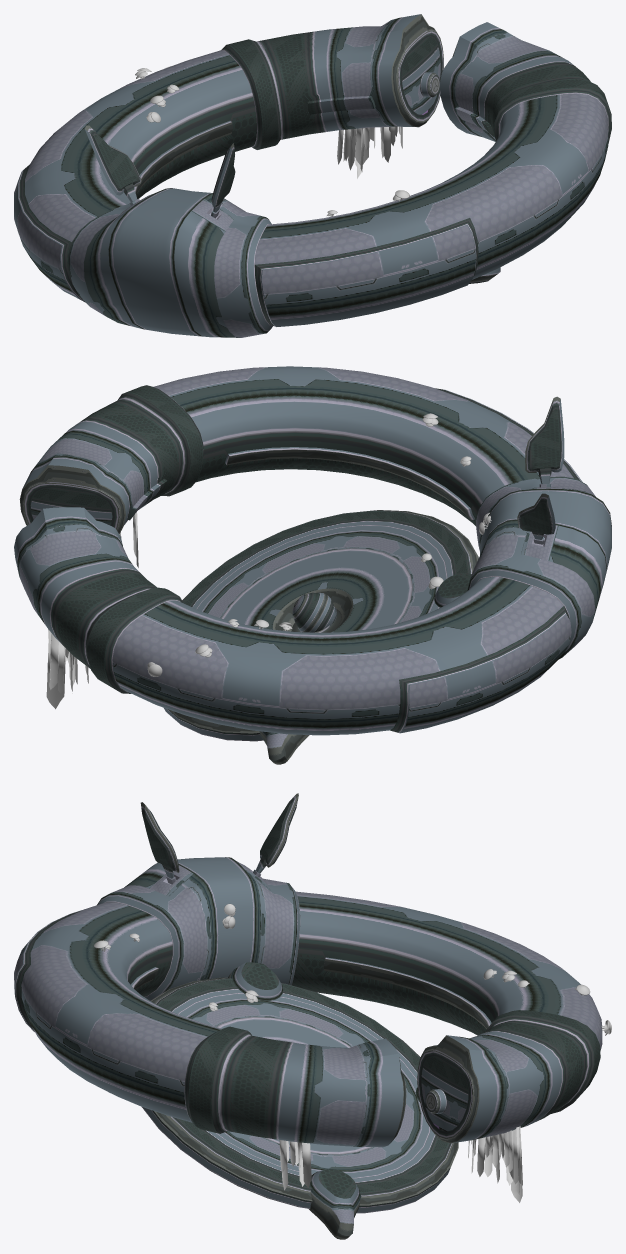
Rendered from TorusShipCrashed.fbx.
The picture shows the model from 3 angles, top to bottom: view 1: azimuth 30°, elevation 25°; view 2: azimuth 150°, elevation 25°; view 3: azimuth 270°, elevation 25°; orthographic projection.
Parts seen in each view (by area): view 1: TorusShip Round, spmDanglingMossSpread_LOD0 (×2); view 2: TorusShip Round, TorusShip Platform, TorusShip Core, spmDanglingMossCluster_LOD0; view 3: TorusShip Round, TorusShip Platform, spmDanglingMossSpread_LOD0 (×2), spmDanglingMossCluster_LOD0.
Part boxes in pixels (x1=…): TorusShip Round: x1=14, y1=14, x2=611, y2=337; spmDanglingMossSpread_LOD0 (×2): x1=337, y1=126, x2=402, y2=171; TorusShip Round: x1=14, y1=366, x2=611, y2=735; TorusShip Platform: x1=164, y1=510, x2=478, y2=764; TorusShip Core: x1=292, y1=592, x2=336, y2=632; spmDanglingMossCluster_LOD0: x1=46, y1=630, x2=68, y2=709; TorusShip Round: x1=14, y1=793, x2=602, y2=1147; TorusShip Platform: x1=142, y1=962, x2=458, y2=1239; spmDanglingMossSpread_LOD0 (×2): x1=279, y1=1134, x2=501, y2=1190; spmDanglingMossCluster_LOD0: x1=503, y1=1126, x2=522, y2=1202.
Size of what is drawn, in the model's own units: 46.88 by 24.58 by 47.69.
